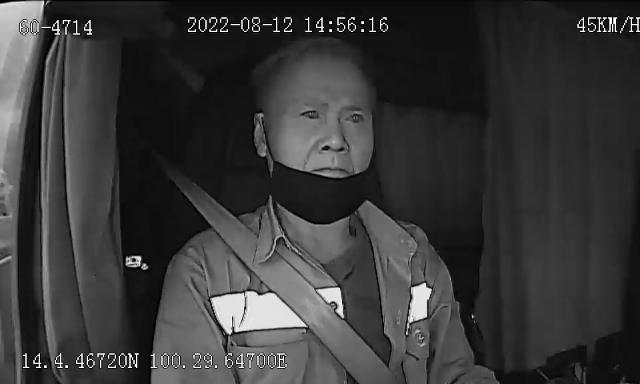SafeDriving: (336, 104, 371, 130), (294, 102, 329, 126)
Seatbelt: (192, 185, 398, 384)
